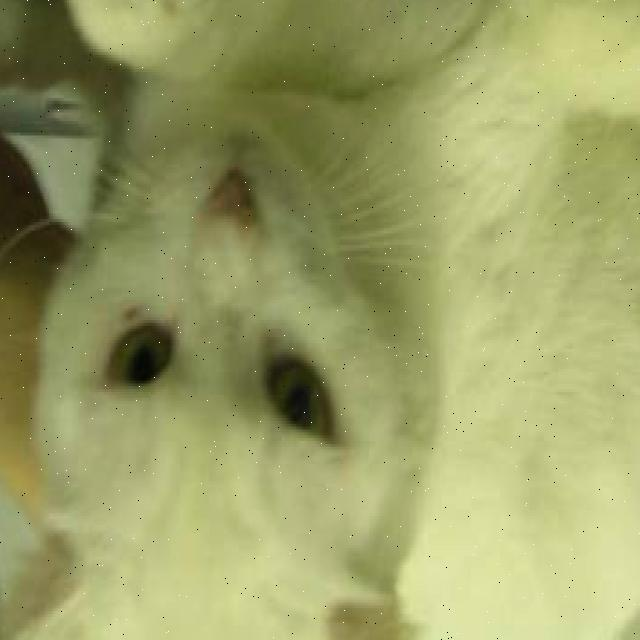Cat: (0, 89, 462, 640)
